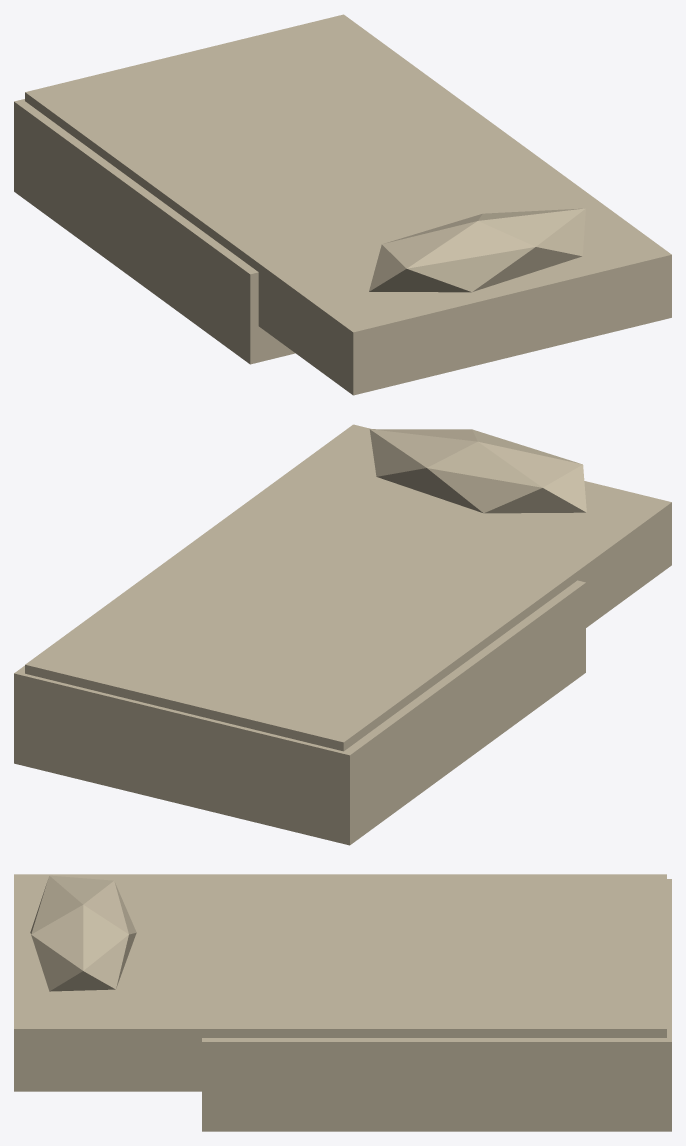
Rendered from bed_linen.fbx.
The picture shows the model from 3 angles, top to bottom: view 1: azimuth 30°, elevation 25°; view 2: azimuth 150°, elevation 25°; view 3: azimuth 270°, elevation 25°; orthographic projection.
Visible parts, largest first — view 1: bed_linen; view 2: bed_linen; view 3: bed_linen.
Part boxes in pixels (bbox=[...]): bed_linen: bbox=[14, 14, 671, 395]; bed_linen: bbox=[14, 424, 671, 845]; bed_linen: bbox=[14, 874, 671, 1131].
Bounding box in the file's own units: 390 × 162 × 665.
